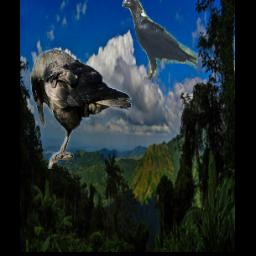Crow: (31, 48, 133, 169), (121, 0, 198, 81)
